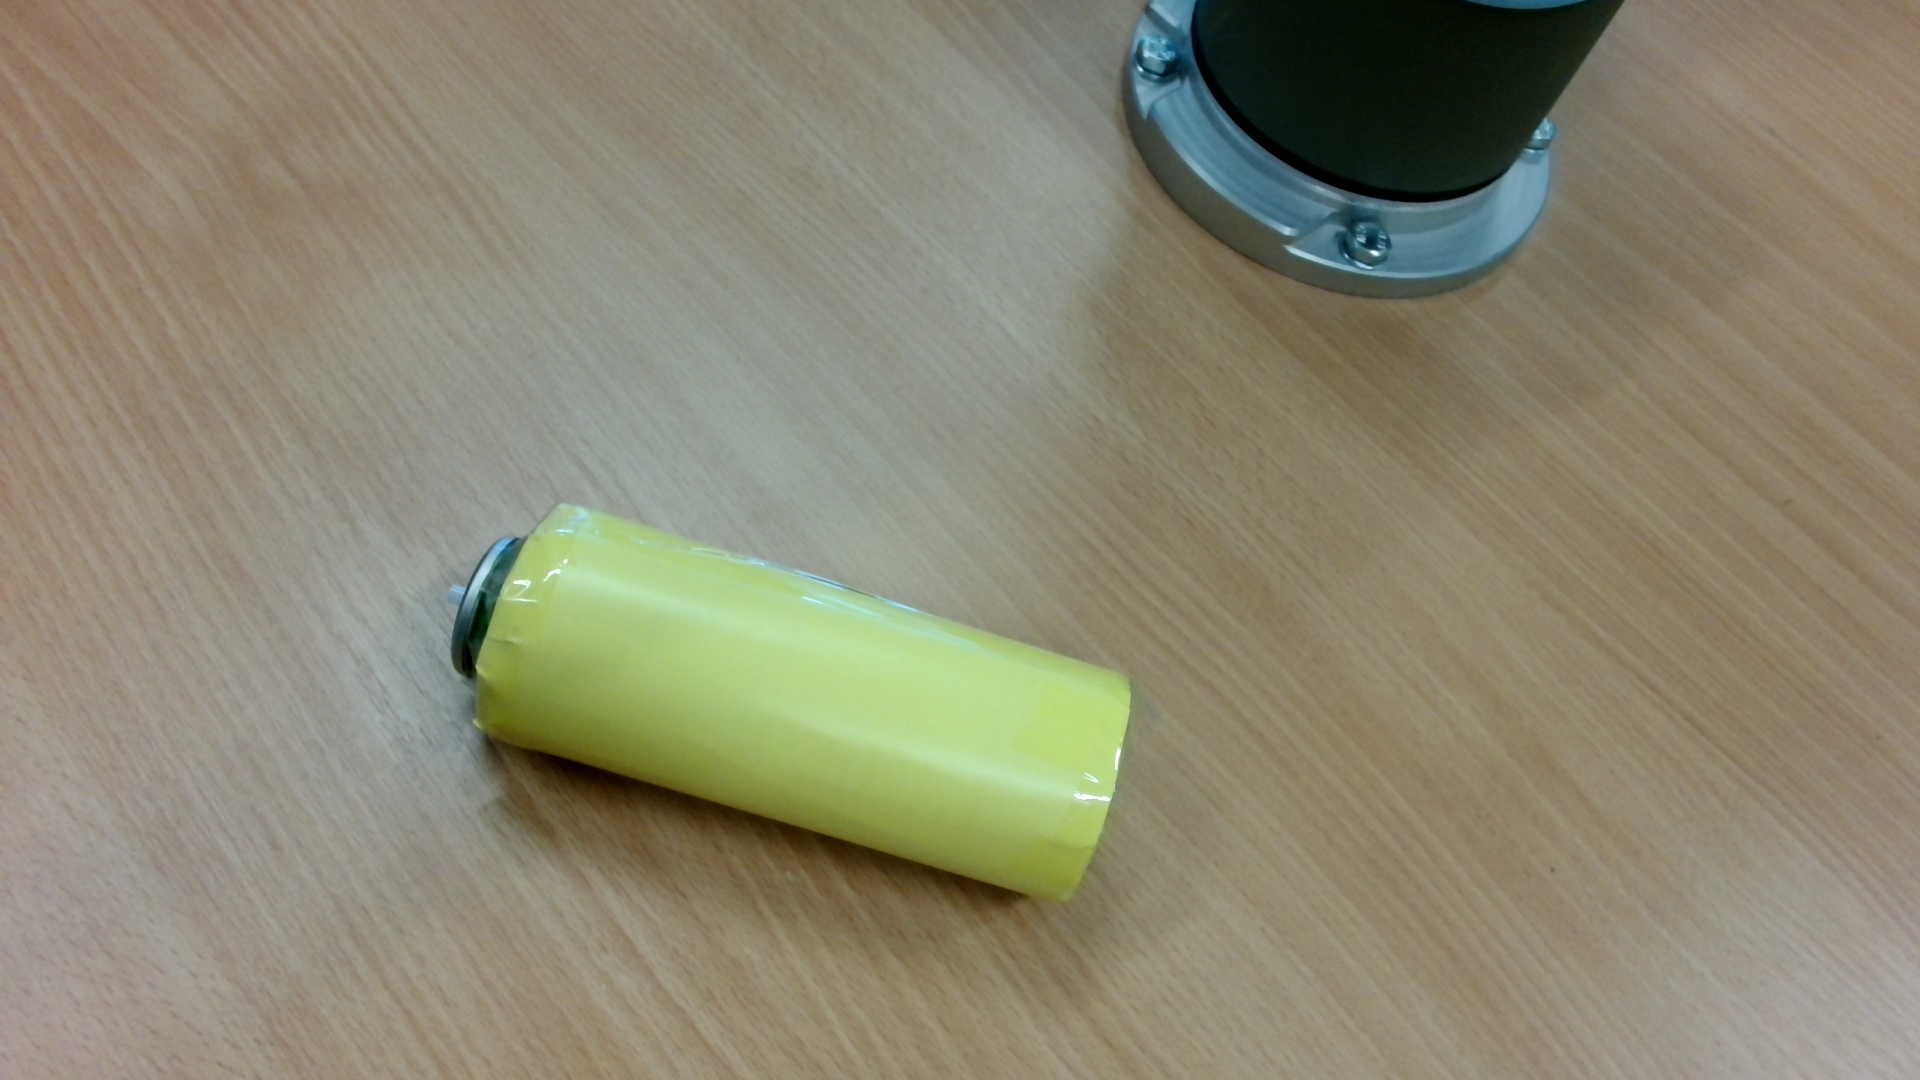Cylinder: (433, 485, 1141, 926)
